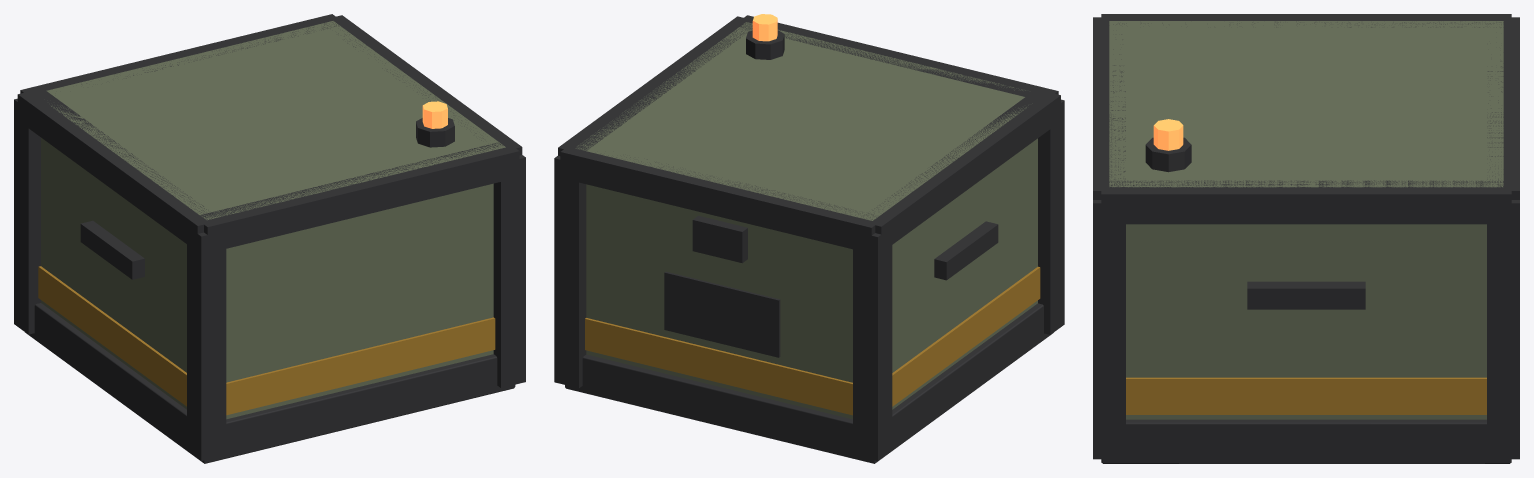
Rendered from material_crate.glb.
The picture shows the model from 3 angles, left to right: view 1: azimuth 30°, elevation 25°; view 2: azimuth 150°, elevation 25°; view 3: azimuth 270°, elevation 25°; orthographic projection. The views are drawn at different scales.
Visible parts, largest first — view 1: material_crate_crate_vc, led; view 2: material_crate_crate_vc, led; view 3: material_crate_crate_vc, led.
Part boxes in pixels (x1,y1,x2,y2): material_crate_crate_vc: [14, 14, 525, 463]; led: [422, 101, 447, 128]; material_crate_crate_vc: [554, 15, 1064, 463]; led: [752, 14, 777, 41]; material_crate_crate_vc: [1093, 14, 1519, 463]; led: [1153, 119, 1183, 150].
Size of the model in its own units: 1.31 by 1.04 by 1.3.
